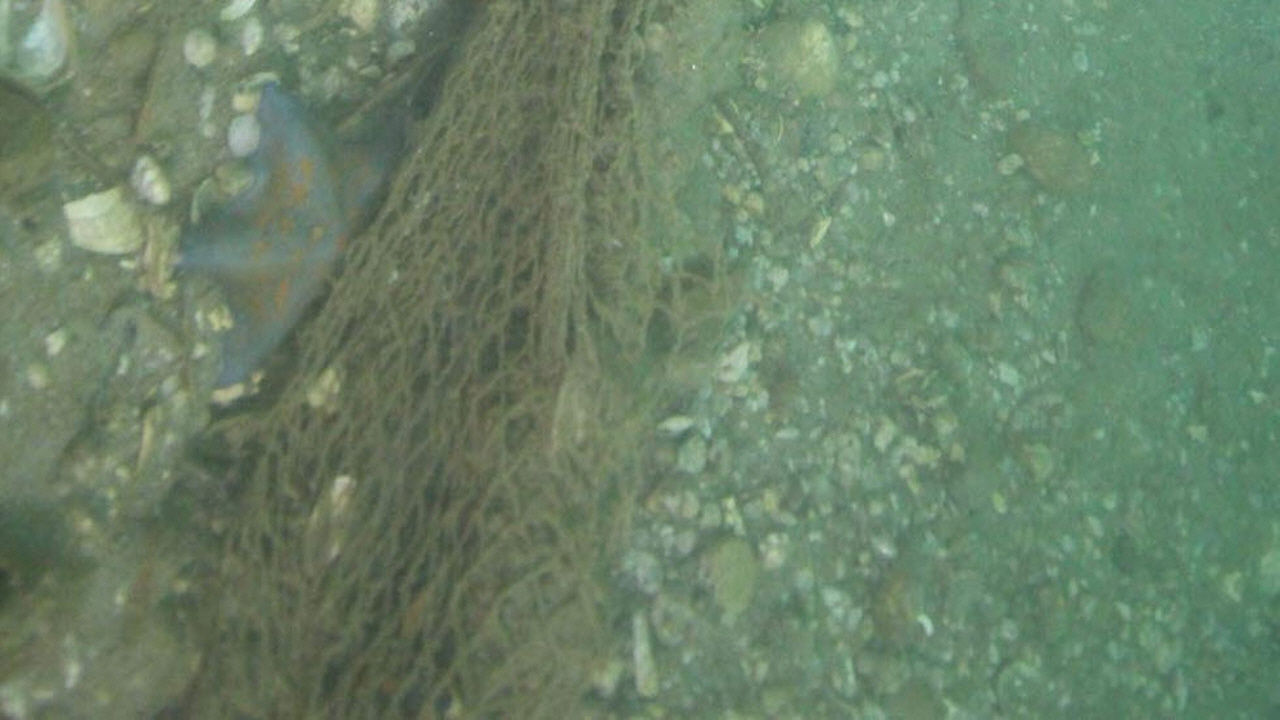fish net: (178, 1, 733, 720)
